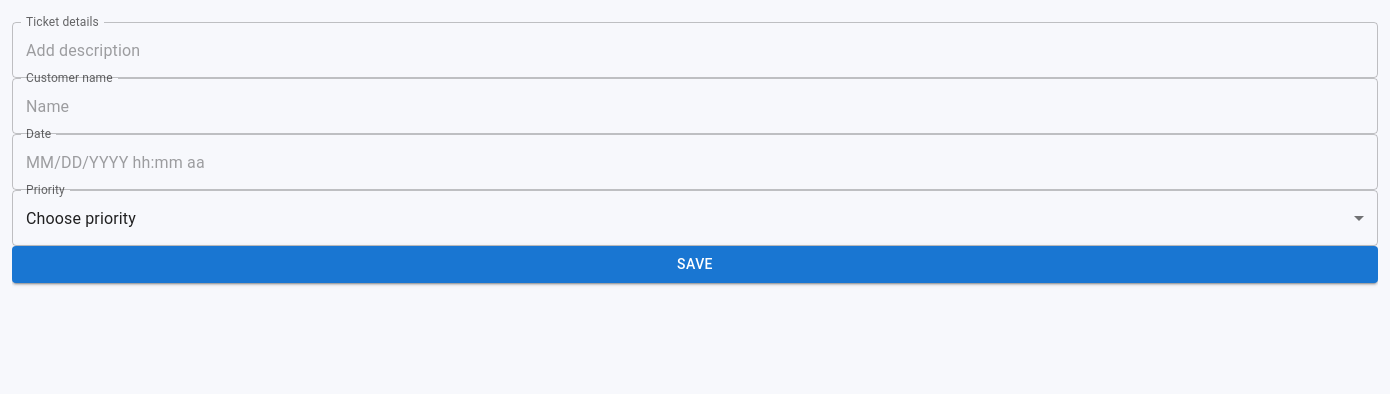
TicketsForm component › displays validation error messages
Type "A" into the field labelled "Customer name" at (695, 106), box [12,78,1378,134]
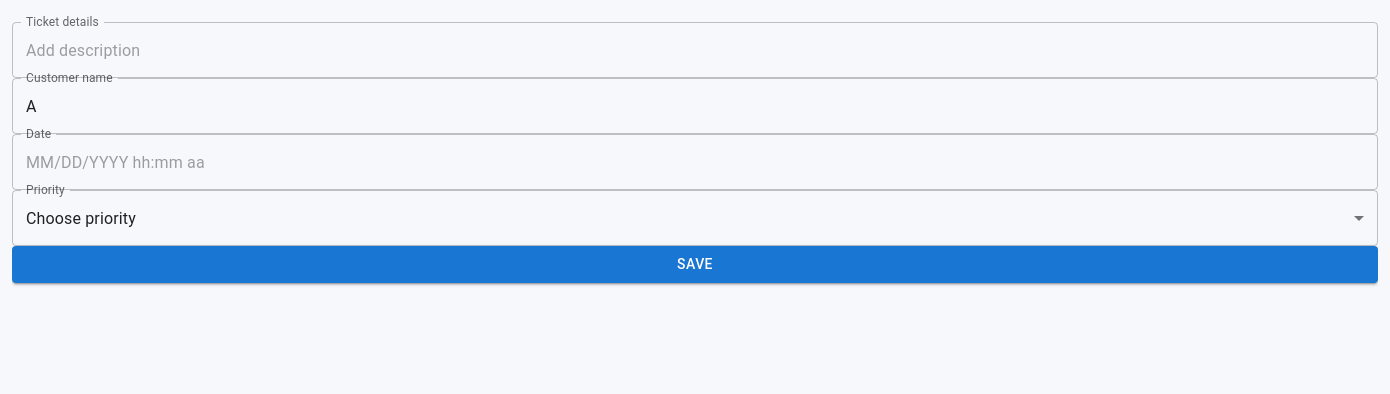
Click the button "Save" at (695, 264), box [12,246,1378,282]
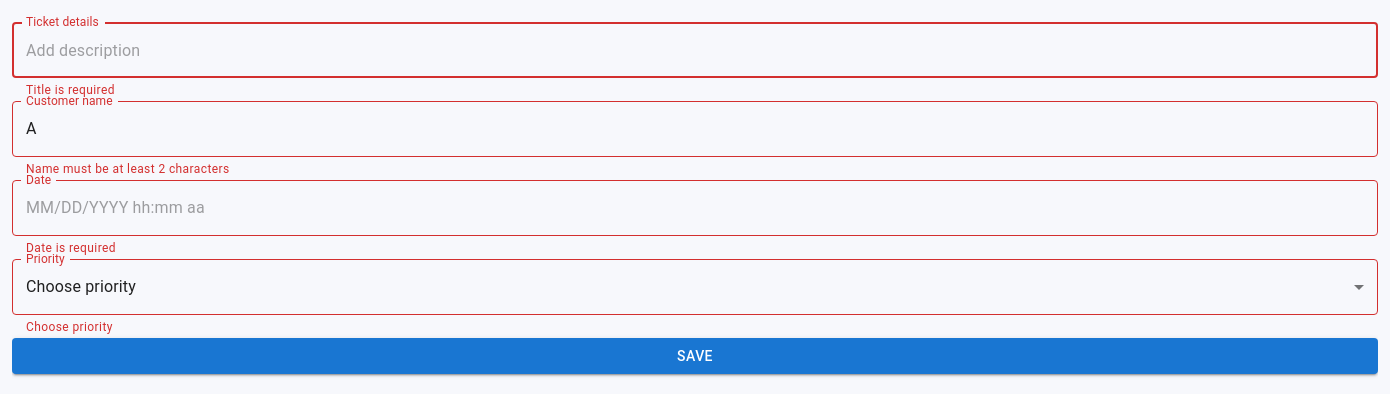
Check: the text "Title is required" is shown, box [26,83,115,97]
Check: the text "Name must be at least 2 characters" is shown, box [26,162,230,176]
